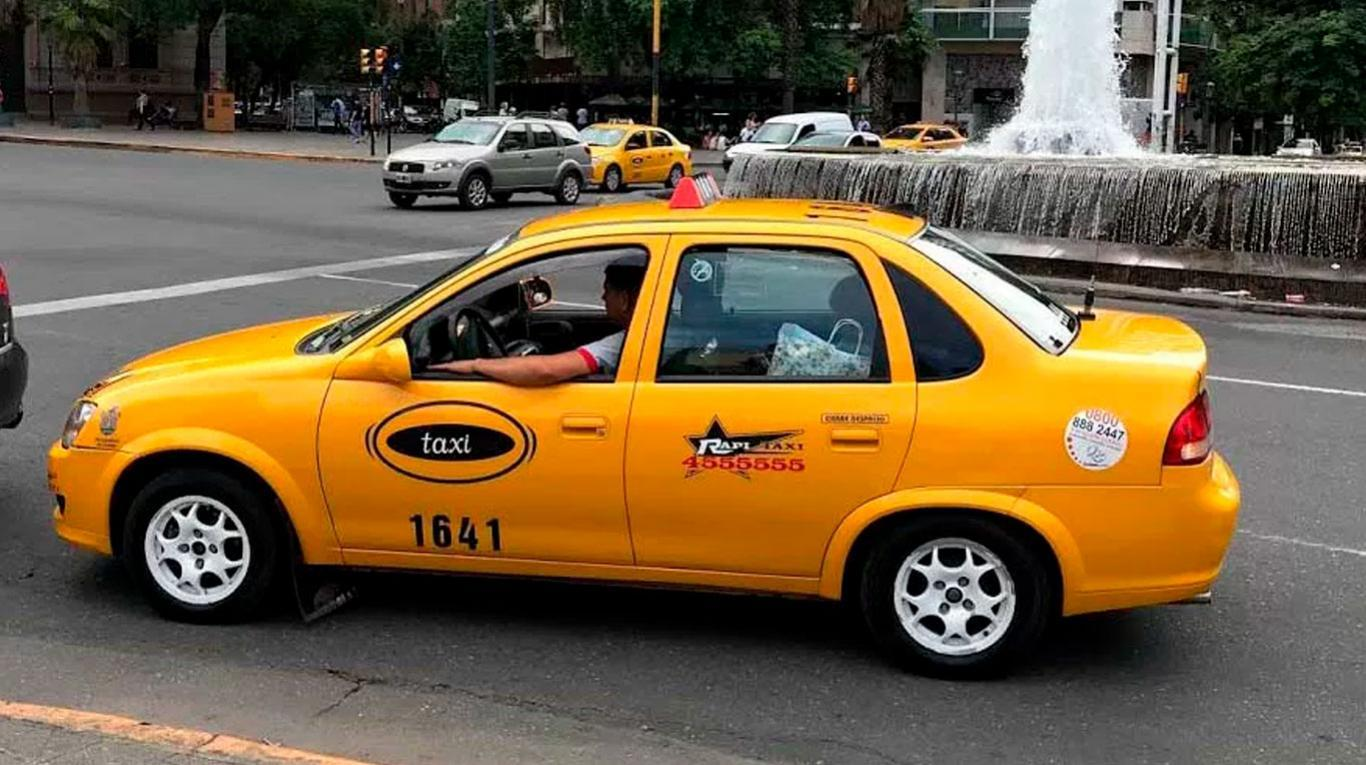taxi: (71, 181, 1278, 685)
